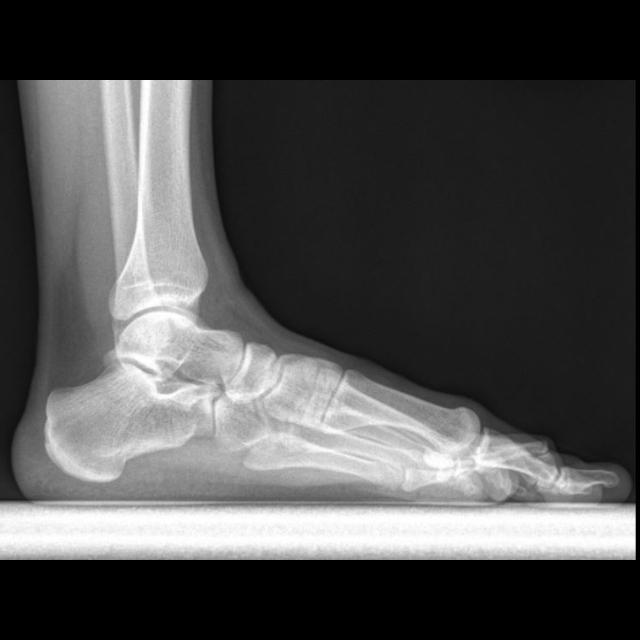a: (43, 362, 222, 484)
b: (225, 342, 277, 403)
c: (318, 370, 480, 455)
